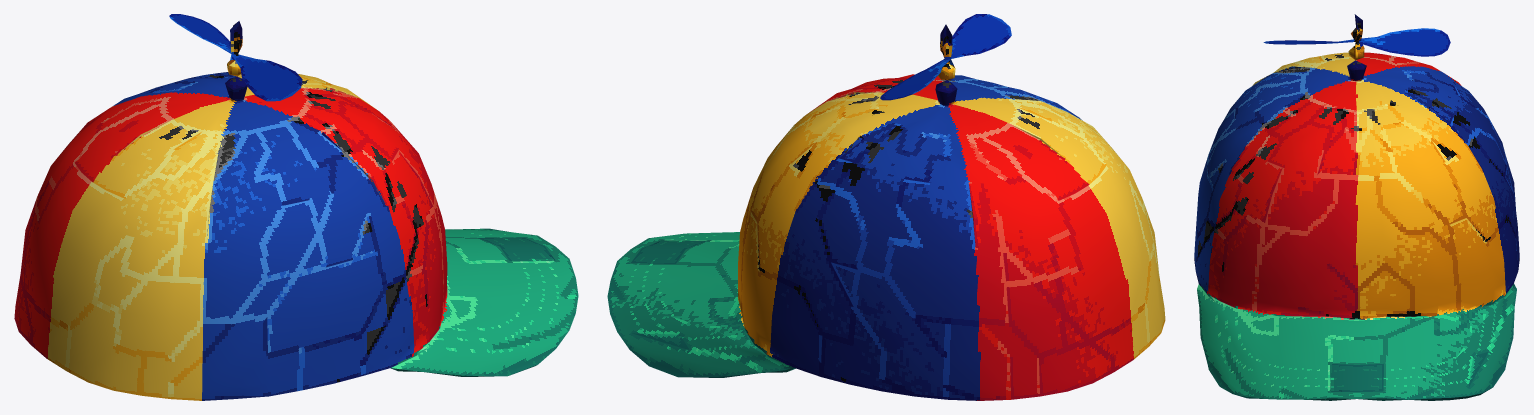
File: wear_propeller2.glb
3 renders of one model, left to right at view 1: azimuth 30°, elevation 25°; view 2: azimuth 150°, elevation 25°; view 3: azimuth 270°, elevation 25°, orthographic. The views are drawn at different scales.
Visible parts, largest first — view 1: mesh; view 2: mesh; view 3: mesh.
Part boxes in pixels (x1=…): mesh: x1=14, y1=14, x2=578, y2=400; mesh: x1=607, y1=14, x2=1165, y2=400; mesh: x1=1194, y1=14, x2=1519, y2=400.
Size of the model in its own units: 0.313 by 0.2 by 0.2069.
1 material, 1 textured.
